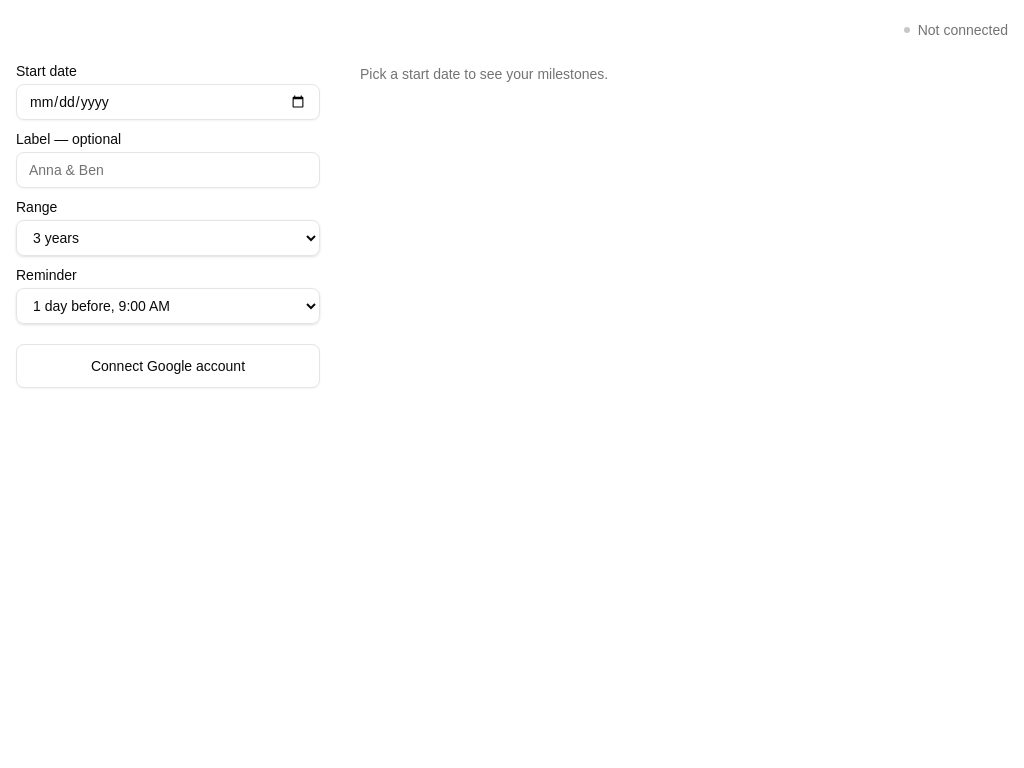
it: App — connected › shows real badges and the work the button will do
Expected: the button "Connect Google account" is enabled, [16,344,320,388]
Type "2026-01-01" into the date field labelled "Start date".
click(168, 102); type("2026-01-01")  # box [16,84,320,120]
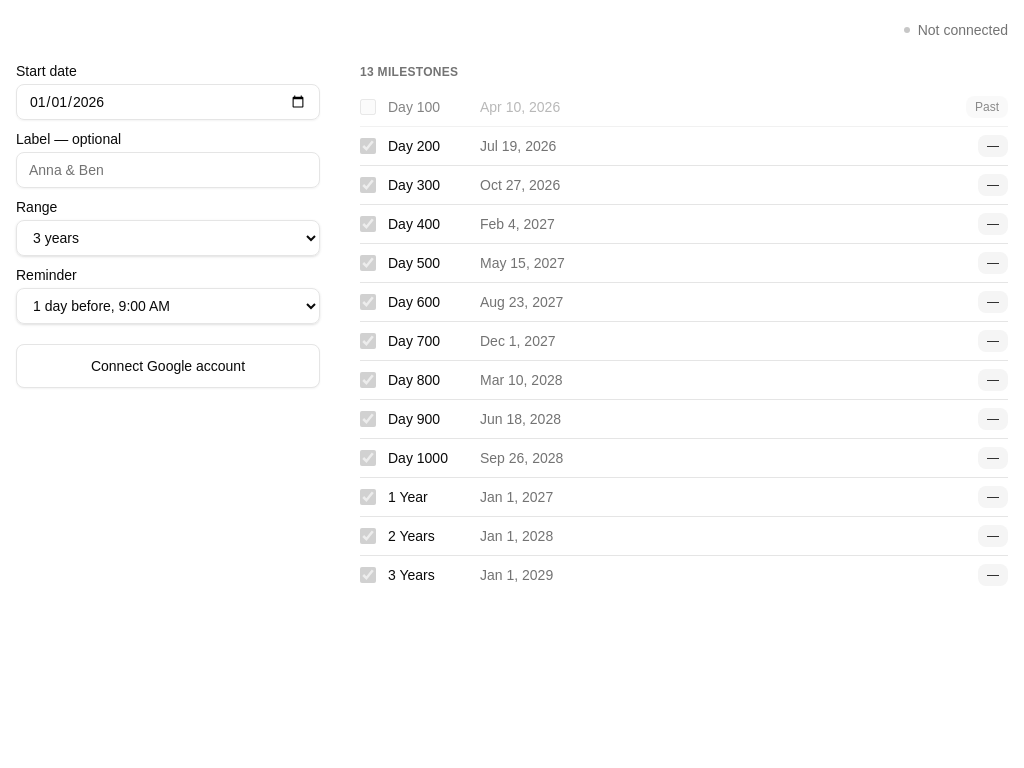
Click the button "Connect Google account".
click(168, 366)  # box [16,344,320,388]
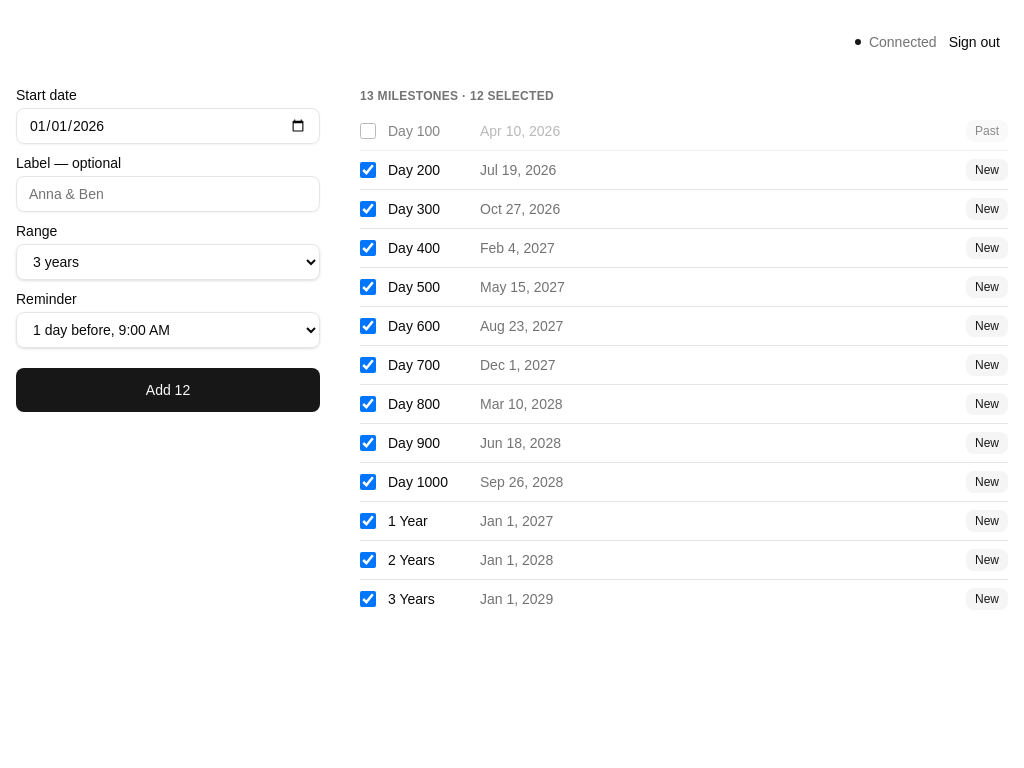
Now the button "Add 12" is shown, box [16,368,320,412]
Now the text "New" in the row of "Day 200" is shown, box [975,163,999,177]
